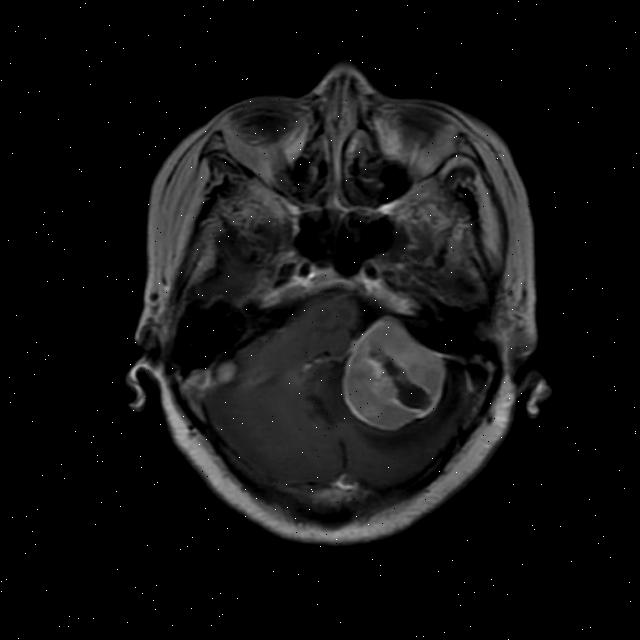Meningioma: (338, 308, 451, 436)
